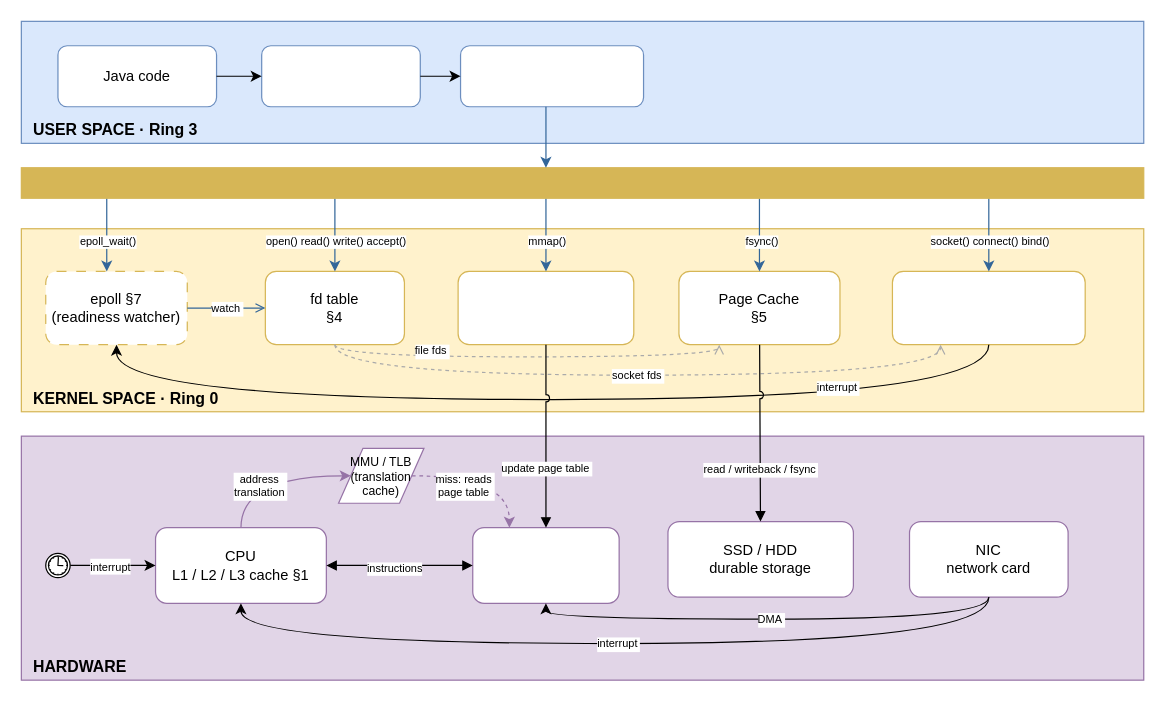
Some shapes in this 1165 by 702 pixel diagram are drawn without their labels. Here are the shapes that lost their labels. From the top down, the box of each, then its label:
(260, 45, 420, 107): JVM Java stdlib
(459, 45, 644, 107): libc glibc / libSystem
(20, 167, 1144, 198): System Call Interface
(457, 270, 634, 345): Virtual Memory page table §2
(891, 270, 1085, 345): TCP Stack socket buffers §6
(472, 526, 619, 603): RAM physical
